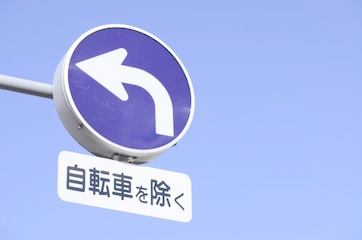Direction_sign: (65, 24, 201, 166)
